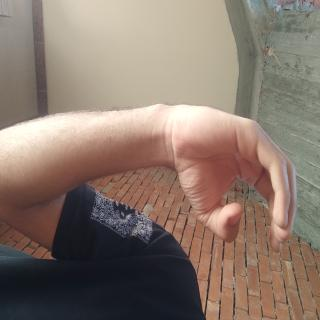JEEM: (71, 19, 190, 216)
